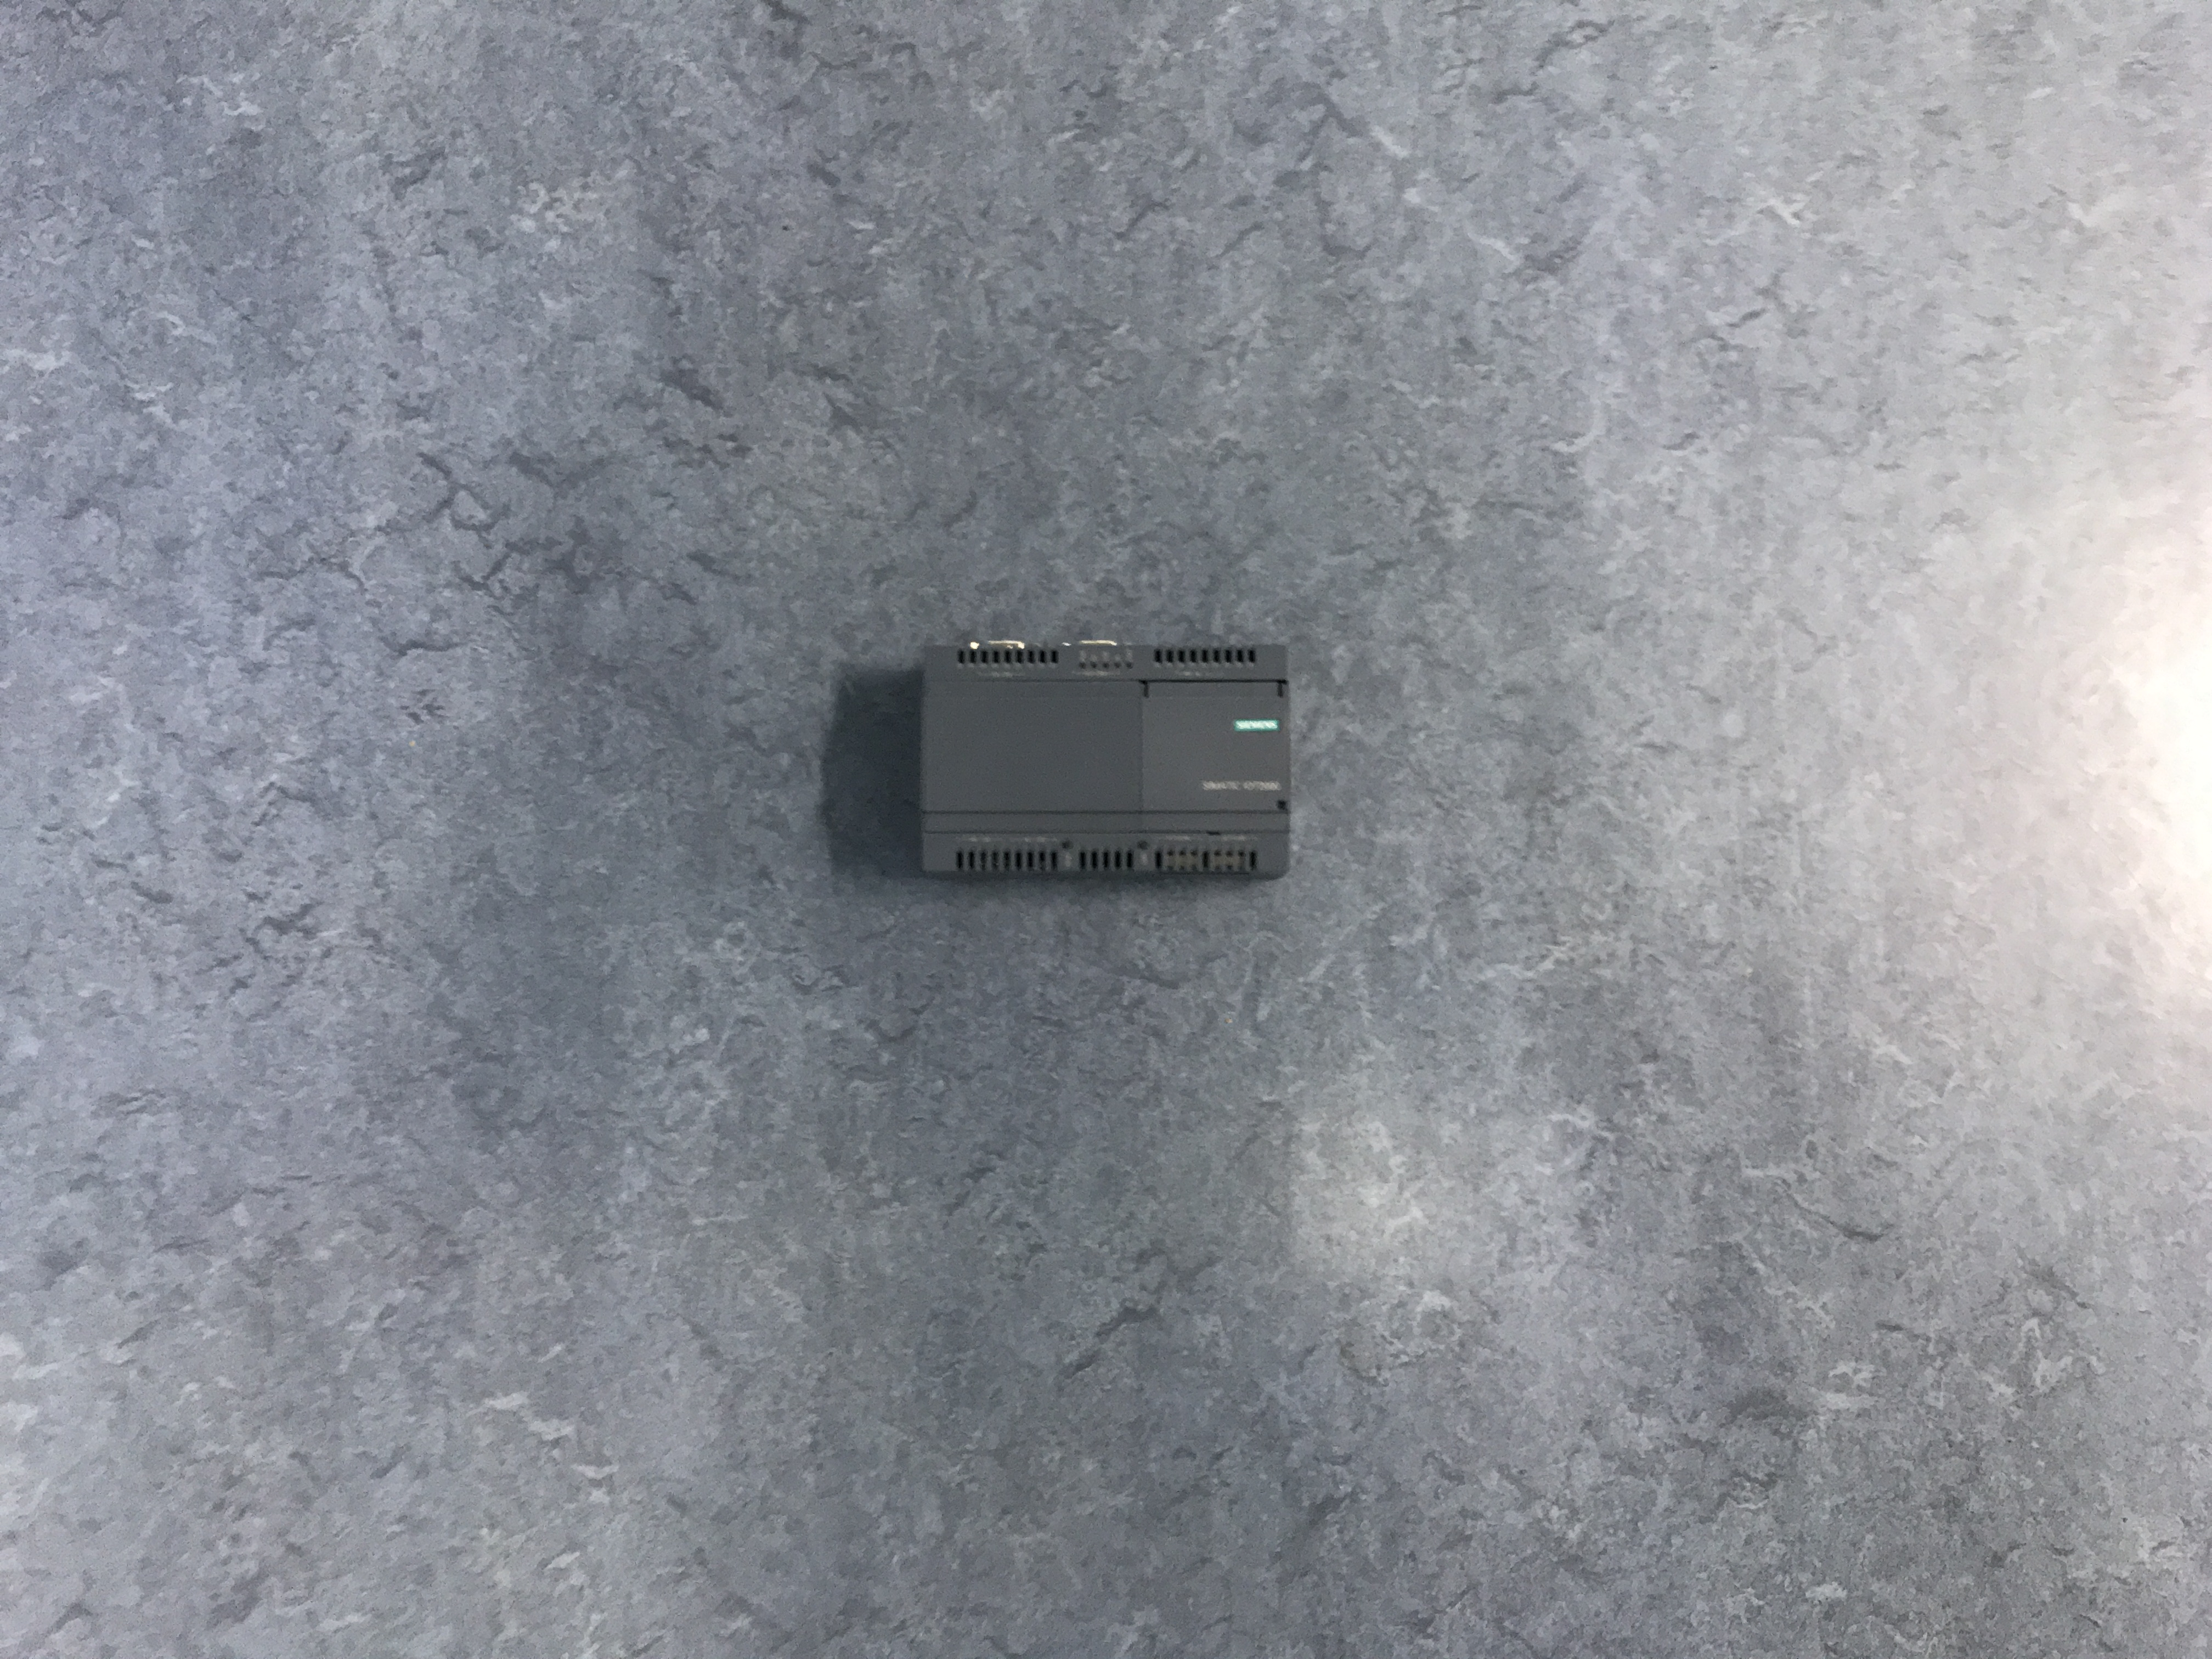device: (921, 640, 1291, 882)
